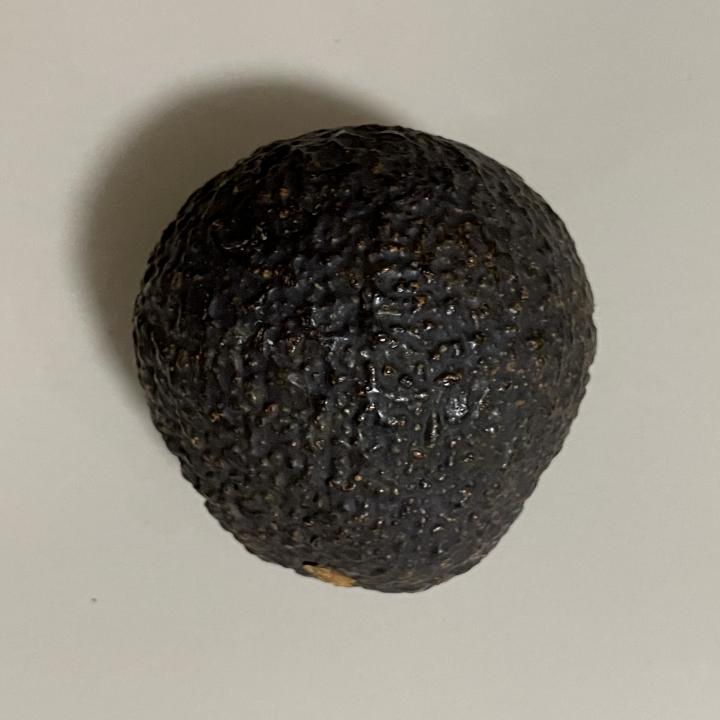Level2: (121, 119, 606, 604)
